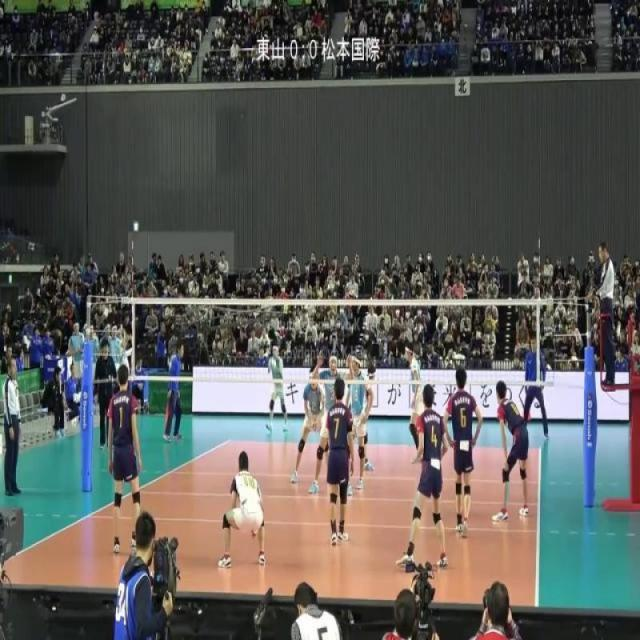volleyball: (268, 356, 277, 371)
